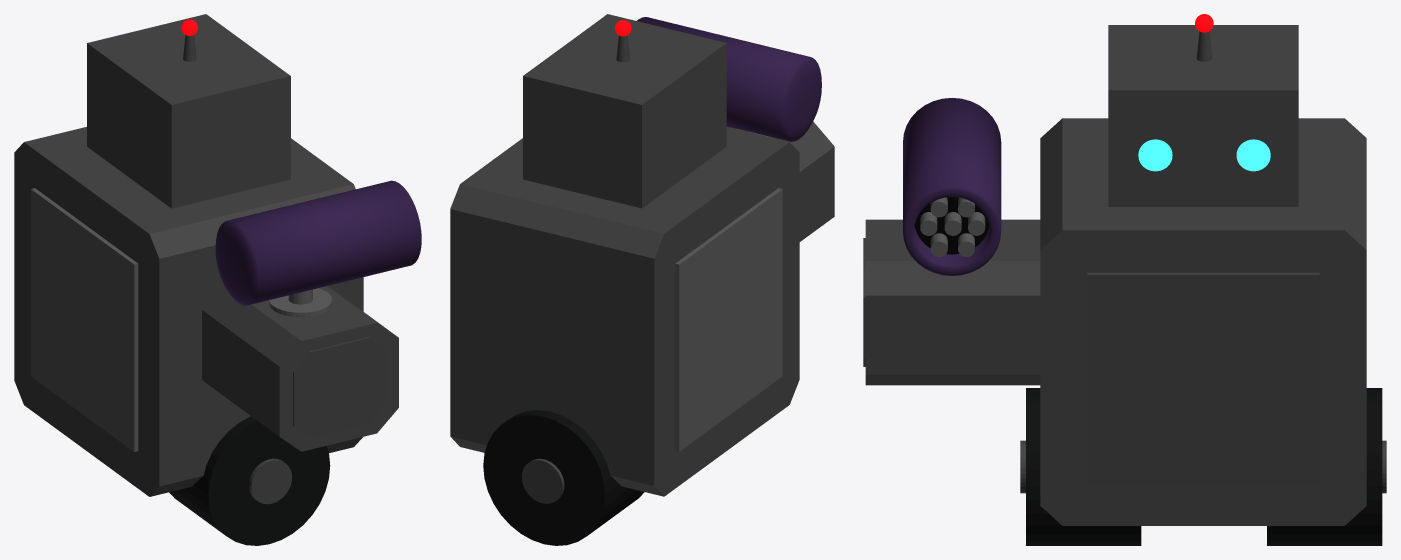
Rendered from robot4.fbx.
3 views of the same model, side by side, from view 1: azimuth 30°, elevation 25°; view 2: azimuth 150°, elevation 25°; view 3: azimuth 270°, elevation 25° (orthographic). The views are drawn at different scales.
Parts seen in each view (by area): view 1: Robot_Rapid; view 2: Robot_Rapid; view 3: Robot_Rapid.
Part boxes in pixels (x1,y1,x2,y2): Robot_Rapid: [14, 14, 421, 545]; Robot_Rapid: [450, 14, 834, 545]; Robot_Rapid: [863, 14, 1386, 545].
Size of the model in its own units: 384 by 804 by 728.
